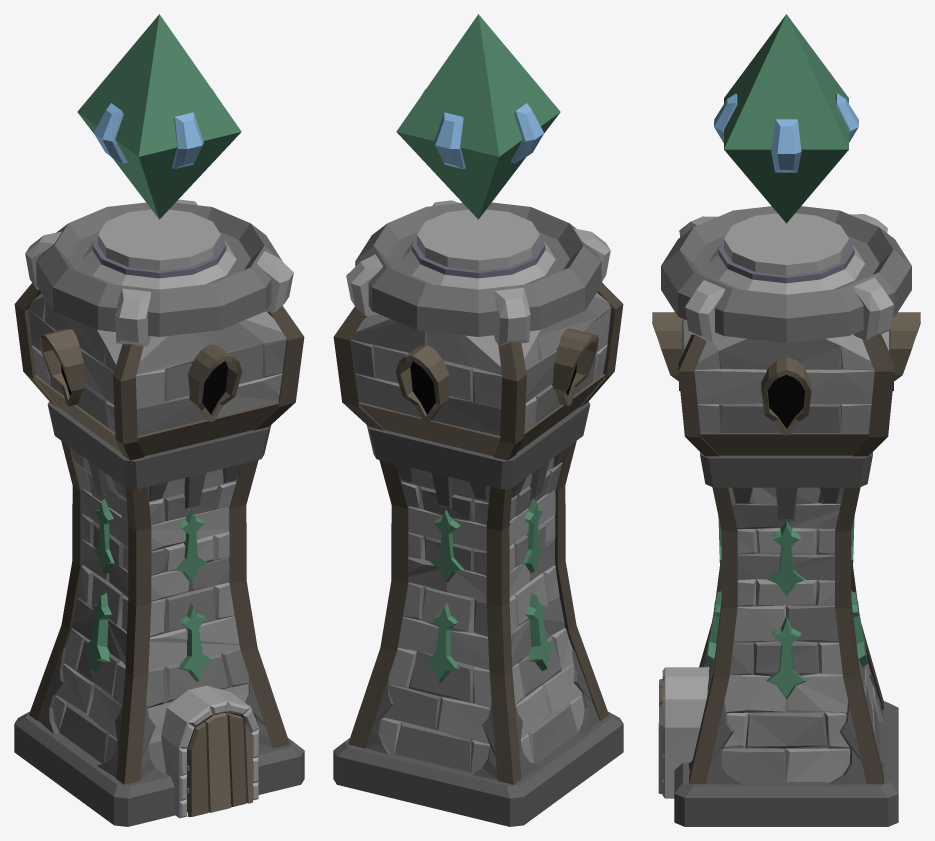
The model's file is _Wizard_tower_LVL_3.fbx.
3 renders of one model, left to right at view 1: azimuth 30°, elevation 25°; view 2: azimuth 150°, elevation 25°; view 3: azimuth 270°, elevation 25°, orthographic.
Visible parts, largest first — view 1: Wizard_Tower_LVL_3; view 2: Wizard_Tower_LVL_3; view 3: Wizard_Tower_LVL_3.
Boxes of the visible parts, x1,y1,x2,y2 form: Wizard_Tower_LVL_3: (14, 14, 304, 826); Wizard_Tower_LVL_3: (333, 14, 623, 826); Wizard_Tower_LVL_3: (652, 14, 920, 826).
Bounding box in the file's own units: 523 × 1646 × 523.
